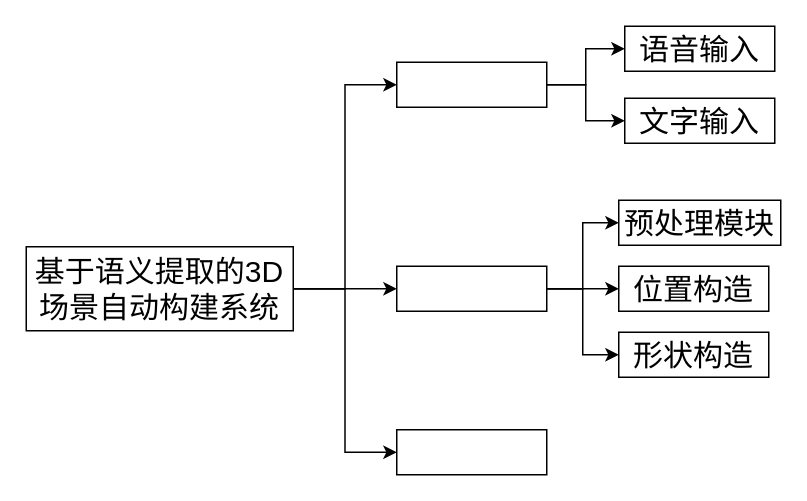
The diagram is 807 pixels wide and 501 high, and some of its shapes have lost their labels. Each missing label, with the centre of its shape:
"优化模块" goes at point (471, 451).
"构造模块" goes at point (471, 288).
"输入模块" goes at point (471, 84).
